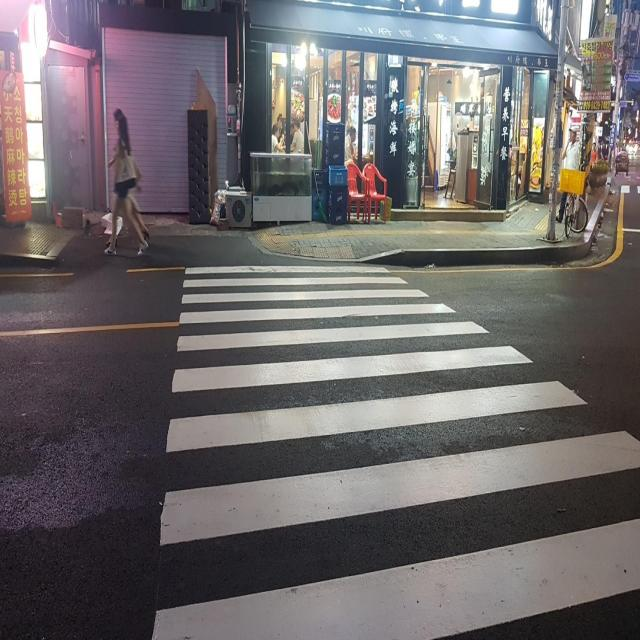횡단보도: (148, 256, 640, 640)
